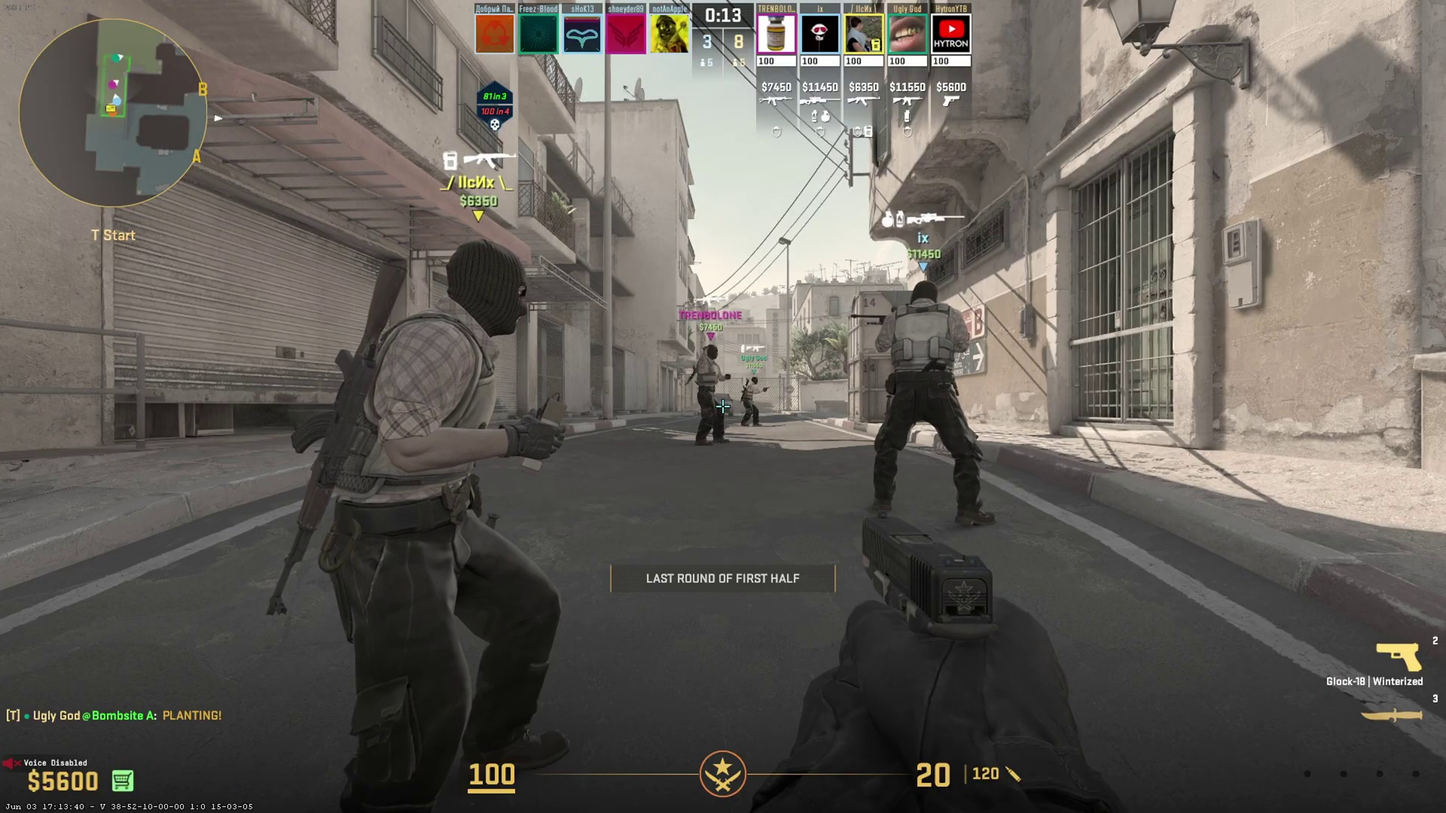Terrorist: (335, 238, 569, 811), (873, 280, 997, 527), (693, 344, 730, 445), (740, 377, 762, 426)
